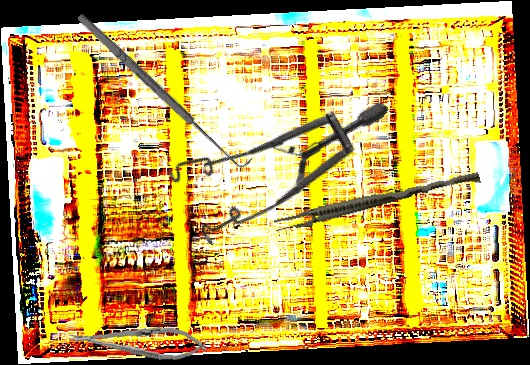Hook Surgical: (74, 5, 254, 175)
Needle Holder: (68, 320, 208, 363)
Speculum: (147, 24, 390, 283)
Tissue Forceps: (273, 164, 481, 237)
